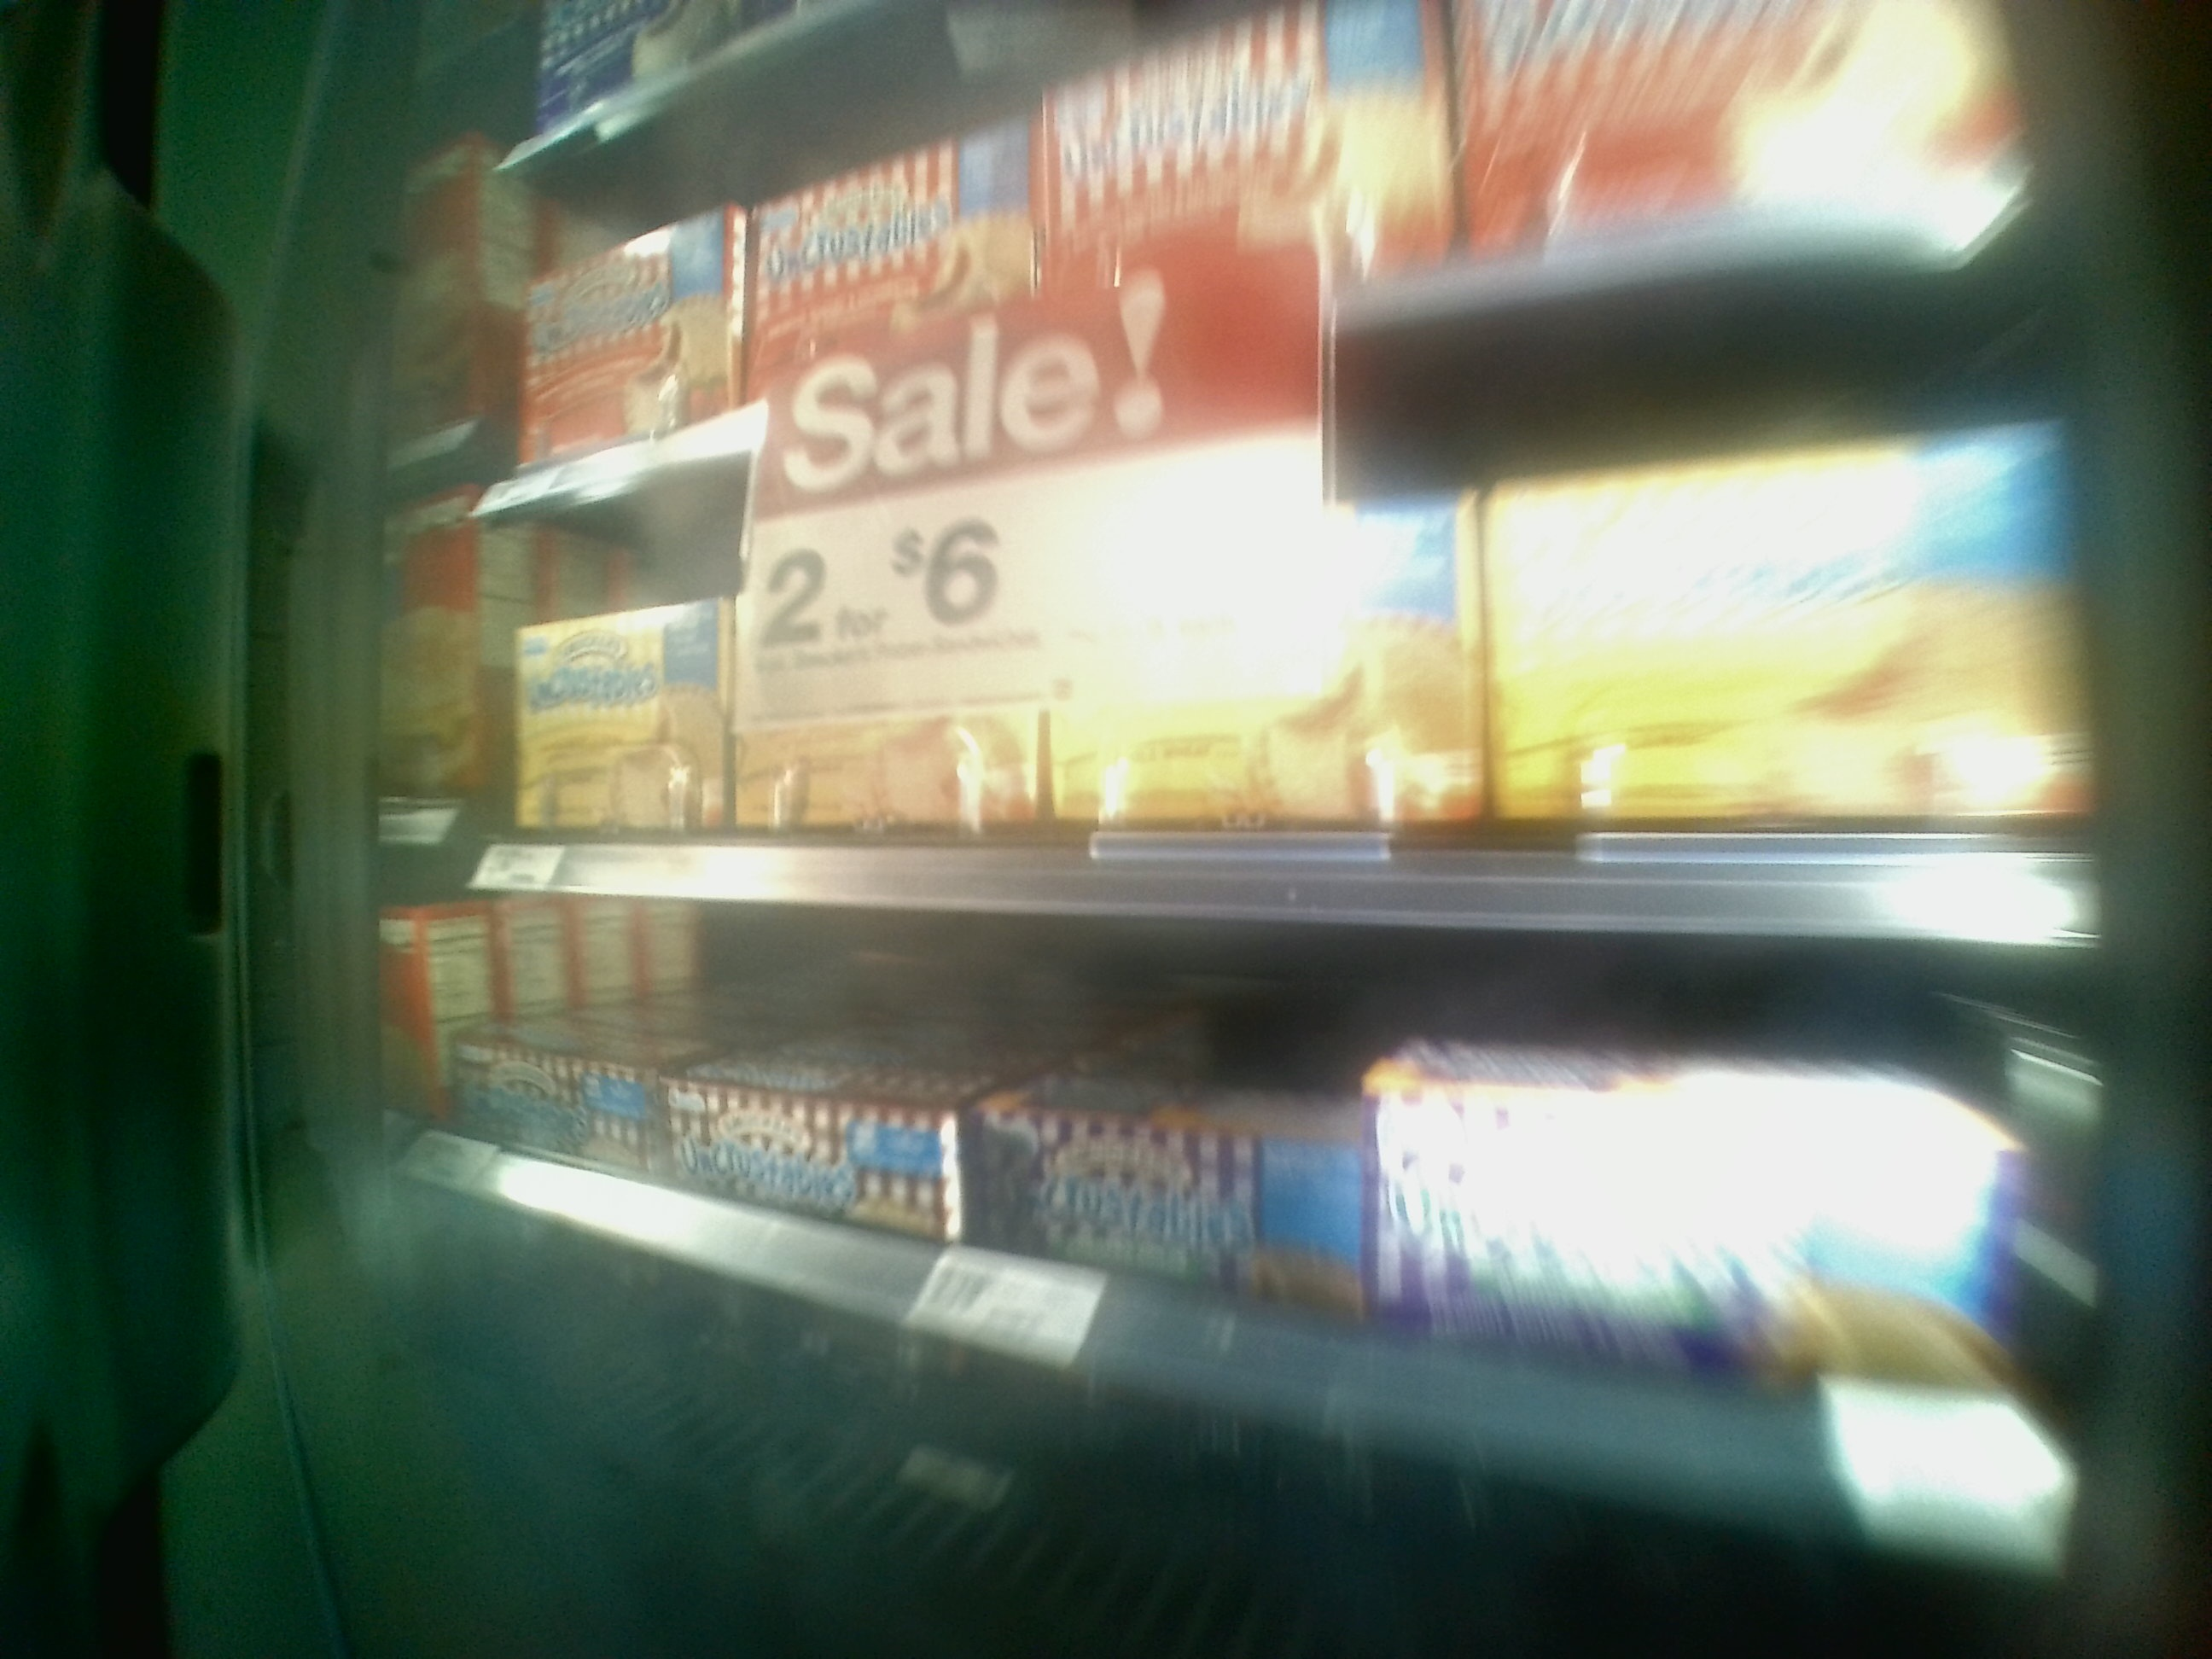shelf: (425, 901, 2101, 1551), (449, 373, 2099, 953)
